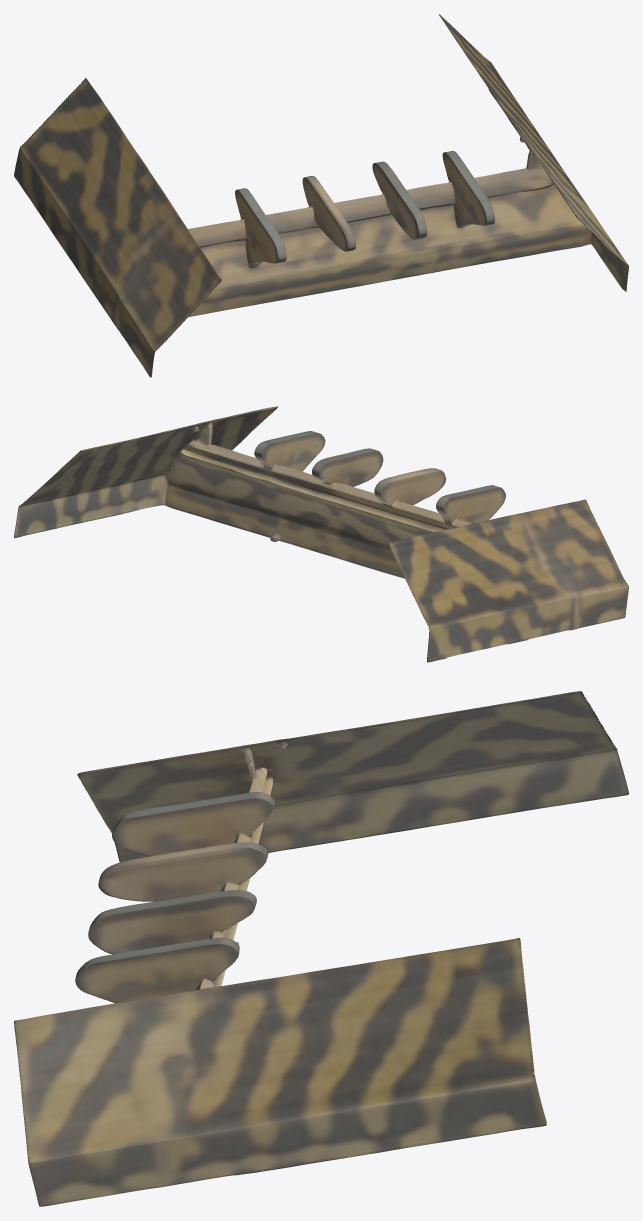
File: guard-multi.glb
3 views of the same model, one above another, from view 1: azimuth 30°, elevation 25°; view 2: azimuth 150°, elevation 25°; view 3: azimuth 270°, elevation 25° (orthographic). The views are drawn at different scales.
Visible parts, largest first — view 1: geometry_0; view 2: geometry_0; view 3: geometry_0.
Part boxes in pixels (<box>): geometry_0: <box>14,14,628,377</box>; geometry_0: <box>14,406,628,662</box>; geometry_0: <box>14,691,628,1206</box>.
Size of the model in its own units: 3.06 by 1.03 by 2.27.
